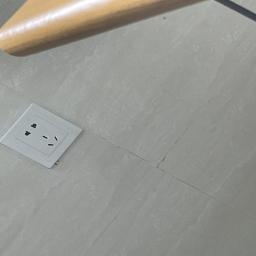outlet: (0, 98, 85, 169)
